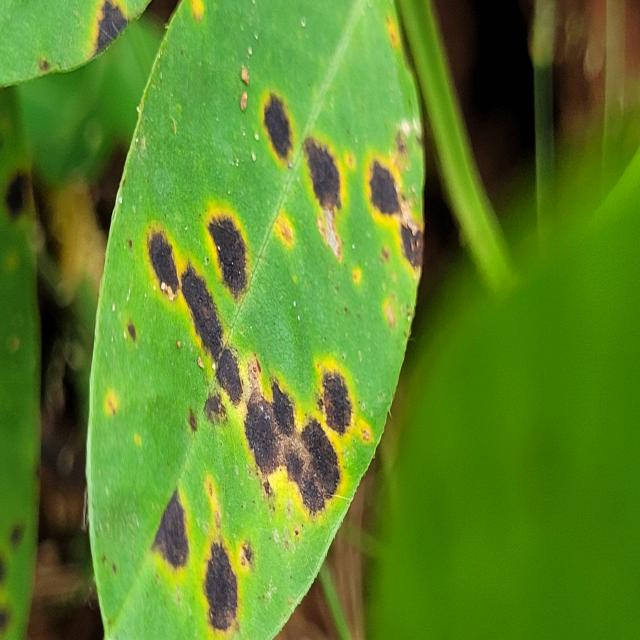Ground nut_tikka leaf spot: (85, 0, 426, 640)
